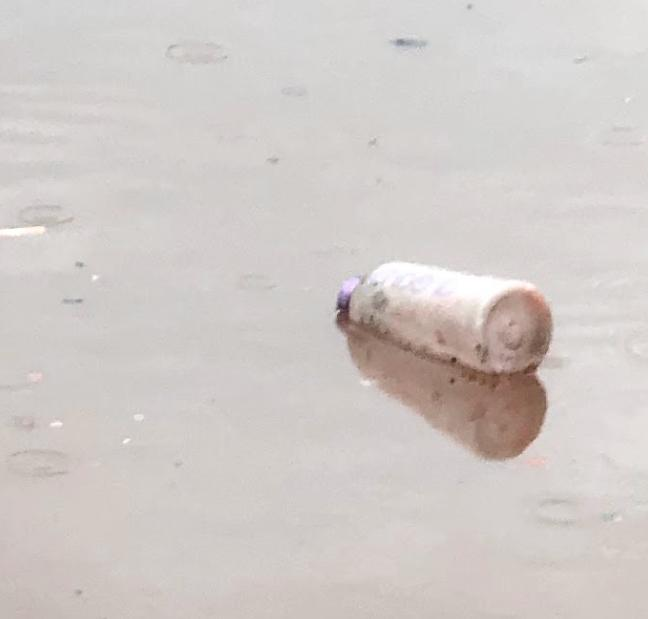Plastic: (334, 258, 559, 374)
